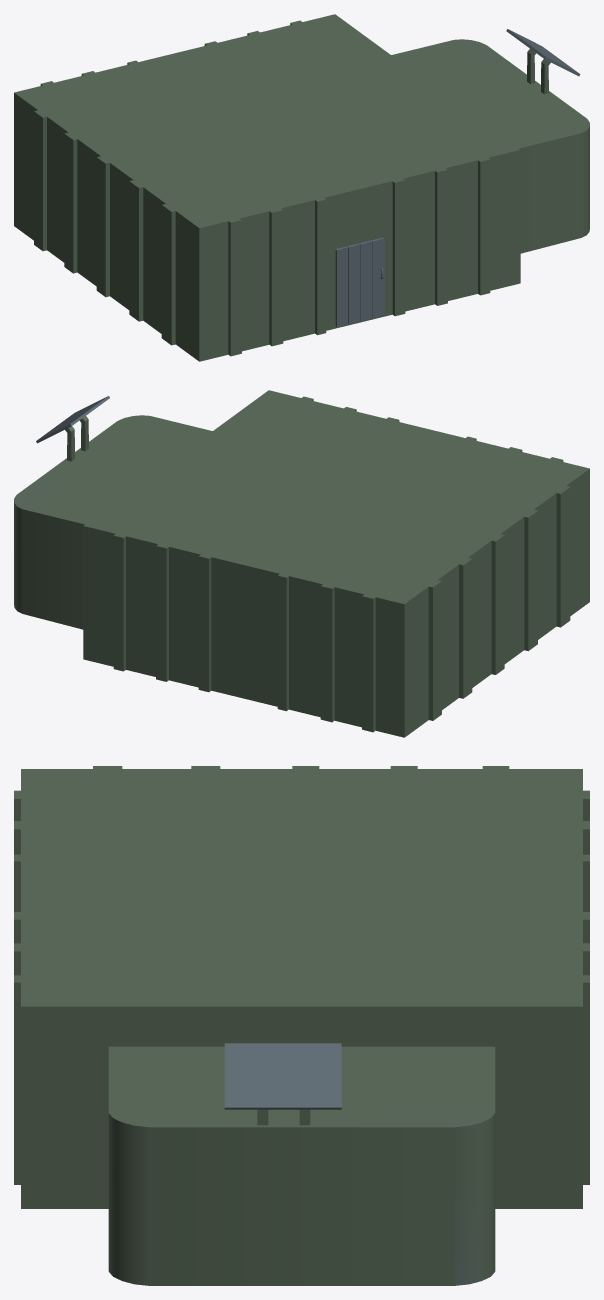
The model's file is LAB.fbx.
The picture shows the model from 3 angles, top to bottom: view 1: azimuth 30°, elevation 25°; view 2: azimuth 150°, elevation 25°; view 3: azimuth 270°, elevation 25°; orthographic projection. The views are drawn at different scales.
Parts seen in each view (by area): view 1: LAB, DOOR; view 2: LAB; view 3: LAB.
Boxes of the visible parts, x1=… form: LAB: x1=14, y1=14, x2=589, y2=361; DOOR: x1=335, y1=237, x2=384, y2=326; LAB: x1=14, y1=390, x2=589, y2=737; LAB: x1=14, y1=766, x2=589, y2=1285.
Bounding box in the file's own units: 2535 × 828 × 1844.
Materials: 1 (1 with a texture image).
